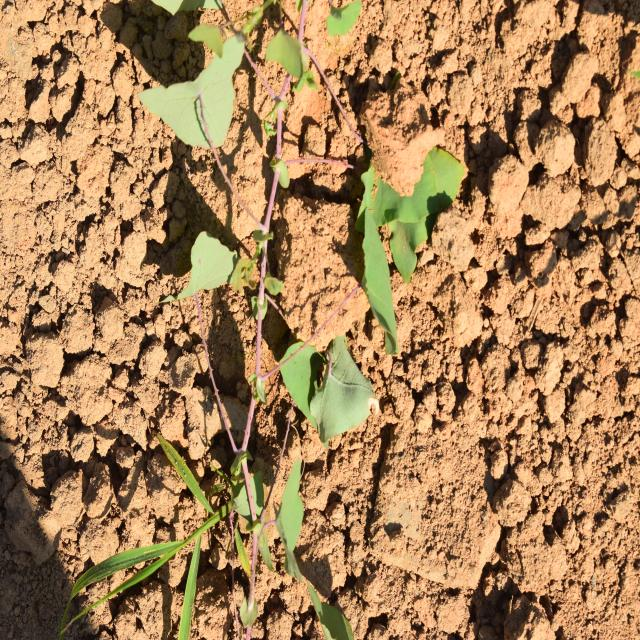Asiatic_Smartweed: (295, 114, 466, 450), (130, 7, 294, 345)
